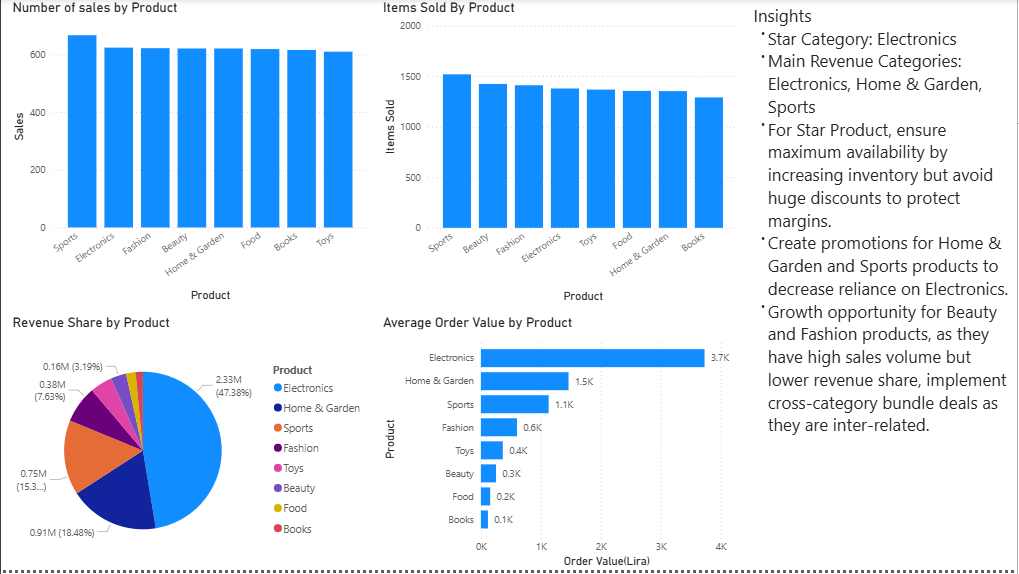

What the dashboard file says about the page in this screenshot:
{"tool":"powerbi","page":{"name":"Product Category Performance","canvas":[1280,720],"ordinal":4},"visuals":[{"type":"clusteredColumnChart","title":"Number of sales by Product","fields":{"Category":["Product Performance.Product"],"Y":["Sum(Product Performance.no_of_sales)"]},"box":[9.4,0,457.3,385.5],"z":0},{"type":"columnChart","title":"Items Sold By Product","fields":{"Category":["Product Performance.Product"],"Y":["Sum(Product Performance.items_sold)"]},"box":[476,0,457,386],"z":2},{"type":"pieChart","title":"Revenue Share by Product","fields":{"Category":["Product Performance.Product"],"Y":["Sum(Product Performance.Revenue)"]},"box":[9,396,457,324],"z":3},{"type":"clusteredBarChart","title":"Average Order Value by Product","fields":{"Category":["Product Performance.Product"],"Y":["Sum(Product Performance.avg_order_value)"]},"box":[476,396,457,324],"z":4},{"type":"textbox","box":[943,0,336.4,720],"z":5}]}

Visuals, with their boxes in screenshot pixels (x1, y1, x2, y2), scaled from the page's 1280x720 canvas onto the 1019x574 screenshot:
"Number of sales by Product" clusteredColumnChart: bbox=(7, 0, 372, 307)
"Items Sold By Product" columnChart: bbox=(379, 0, 743, 308)
"Revenue Share by Product" pieChart: bbox=(7, 316, 371, 573)
"Average Order Value by Product" clusteredBarChart: bbox=(379, 316, 743, 573)
textbox: bbox=(751, 0, 1018, 573)
